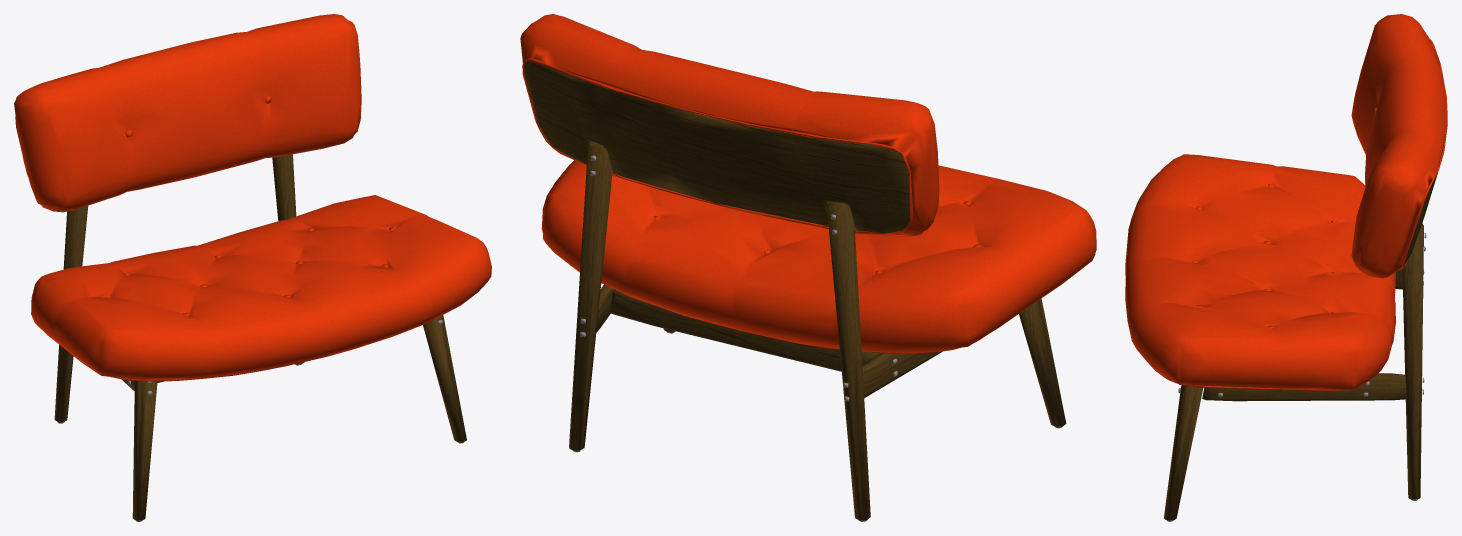
Rendered from SheenChair.glb.
3 views of the same model, side by side, from view 1: azimuth 30°, elevation 25°; view 2: azimuth 150°, elevation 25°; view 3: azimuth 270°, elevation 25° (orthographic). The views are drawn at different scales.
Parts seen in each view (by area): view 1: SheenChair_fabric, SheenChair_wood; view 2: SheenChair_fabric, SheenChair_wood; view 3: SheenChair_fabric, SheenChair_wood.
Boxes of the visible parts, <box> form: SheenChair_fabric: <box>14,14,491,381</box>; SheenChair_wood: <box>54,154,466,520</box>; SheenChair_fabric: <box>520,14,1096,354</box>; SheenChair_wood: <box>524,61,1066,520</box>; SheenChair_fabric: <box>1125,14,1447,390</box>; SheenChair_wood: <box>1164,173,1437,520</box>.
Bounding box in the file's own units: 0.8259 × 0.6855 × 0.569.
Materials: 4 (3 with a texture image).
